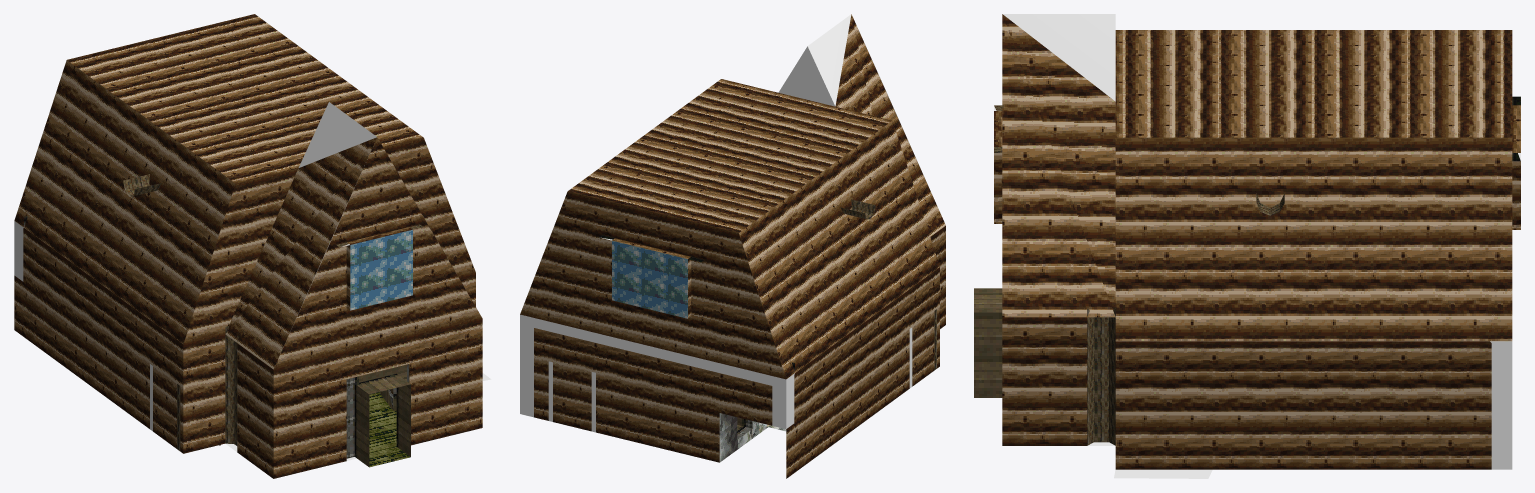
The model's file is 3q dev room new.obj.
3 renders of one model, left to right at view 1: azimuth 30°, elevation 25°; view 2: azimuth 150°, elevation 25°; view 3: azimuth 270°, elevation 25°, orthographic. The views are drawn at different scales.
Parts seen in each view (by area): view 1: mesh; view 2: mesh; view 3: mesh.
Boxes of the visible parts, box(x1,y1,x2,y2) form: mesh: box(14, 14, 491, 478); mesh: box(520, 14, 945, 478); mesh: box(974, 14, 1520, 478).
Bounding box in the file's own units: 443 × 446 × 579.
28 materials, 27 textured.
